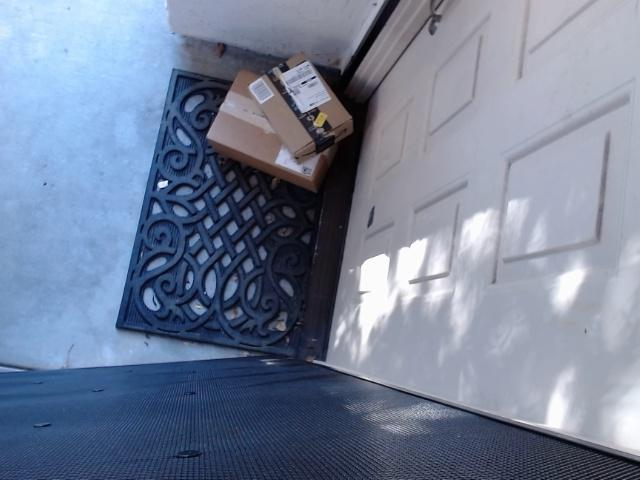box: (206, 61, 347, 202), (250, 52, 349, 157)
